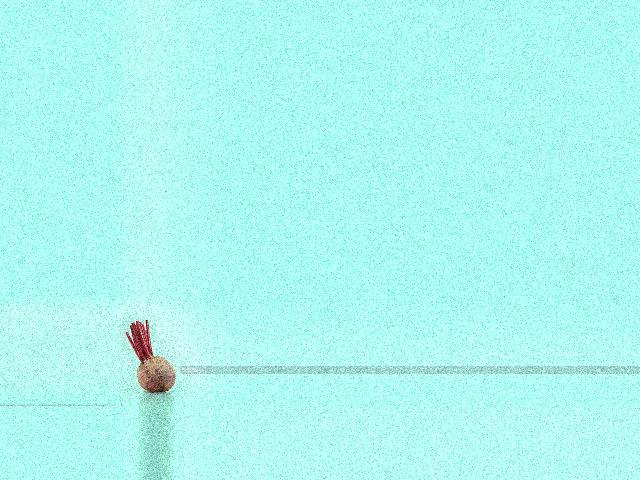beet: (126, 320, 176, 392)
